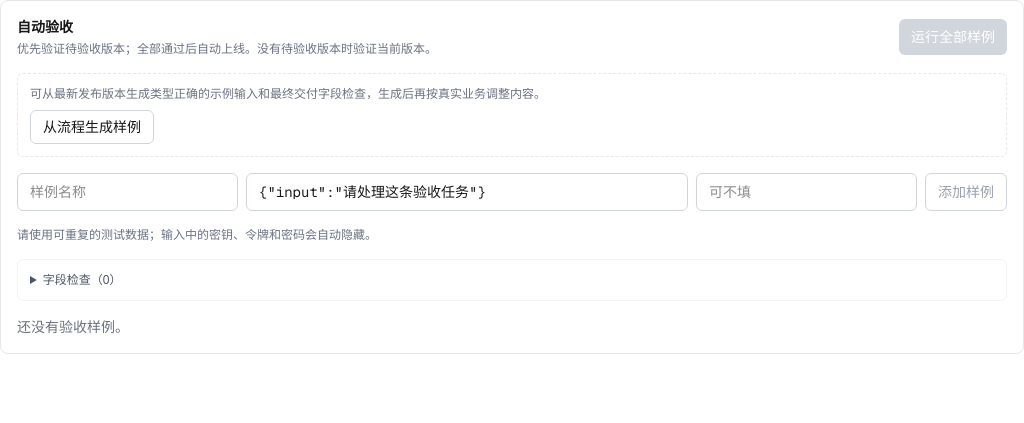
Test case: EvaluationPanel › 重复生成相同样例时提示复用已有结果
What coordinates should you click on to do the following:
click the button "从流程生成样例"
I would click on:
 (92, 127)
Its box is [30, 110, 154, 144].
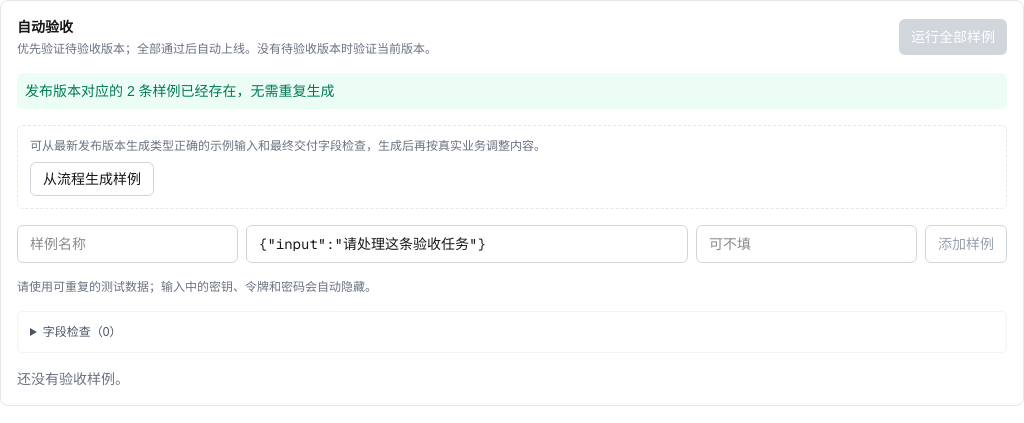
Result: the message reads "发布版本对应的 2 条样例已经存在，无需重复生成" at [25, 83, 335, 99]
